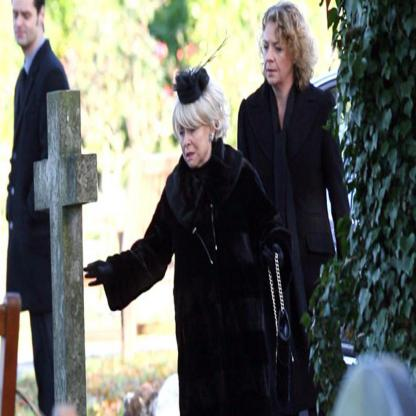face: (180, 115, 210, 169), (263, 25, 288, 85), (14, 4, 39, 46)
